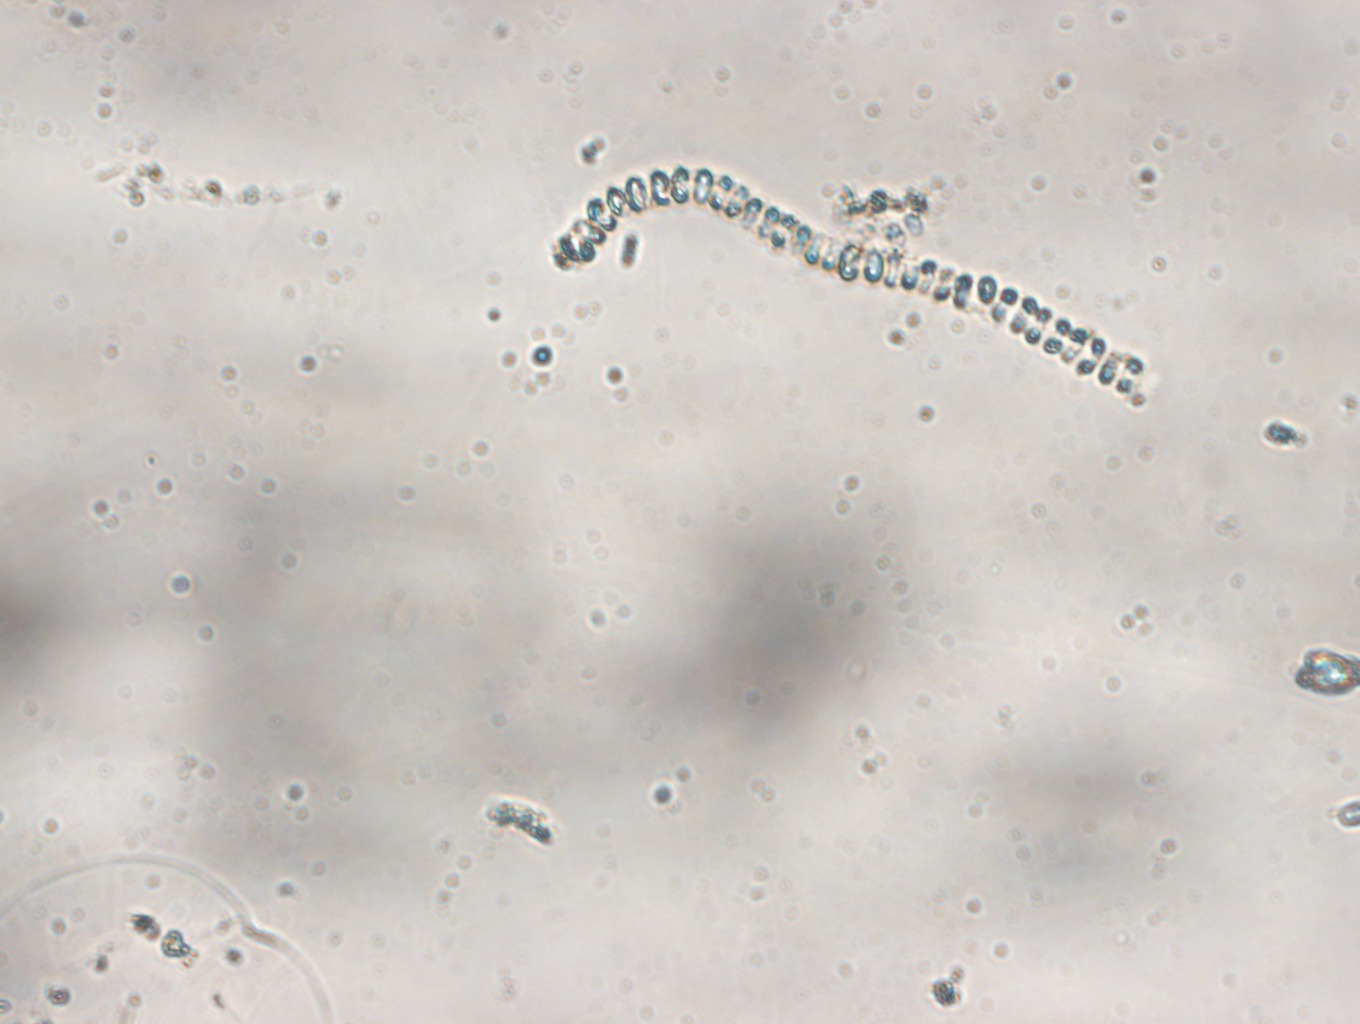skeletonema: (544, 156, 1153, 402)
